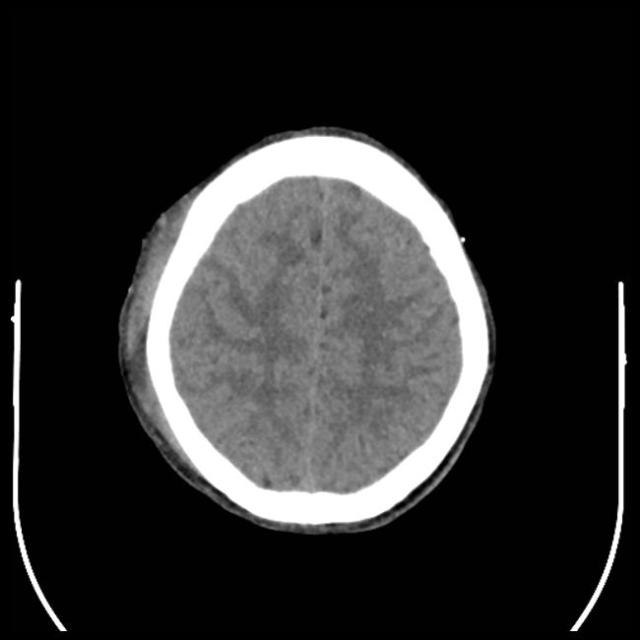lesion: (113, 121, 501, 539)
